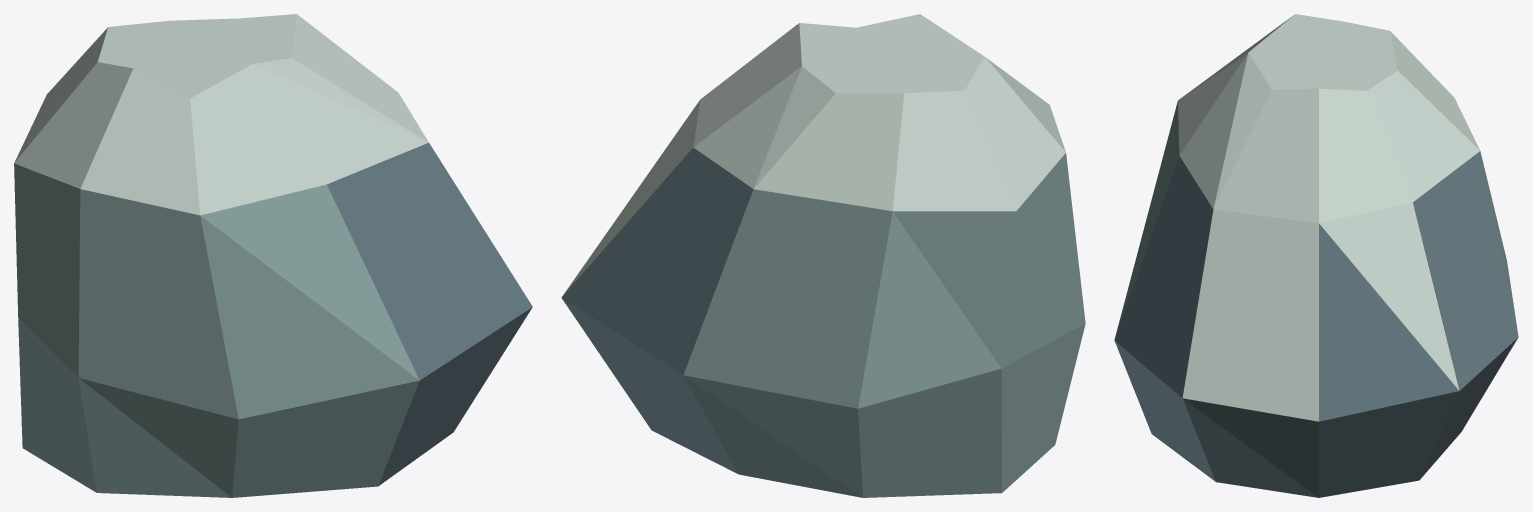
File: rock.glb
3 views of the same model, side by side, from view 1: azimuth 30°, elevation 25°; view 2: azimuth 150°, elevation 25°; view 3: azimuth 270°, elevation 25° (orthographic). The views are drawn at different scales.
Parts seen in each view (by area): view 1: rock__Rock_mid; view 2: rock__Rock_mid; view 3: rock__Rock_mid.
Part boxes in pixels (x1=…): rock__Rock_mid: x1=14, y1=14, x2=532, y2=497; rock__Rock_mid: x1=561, y1=14, x2=1085, y2=497; rock__Rock_mid: x1=1114, y1=14, x2=1518, y2=497.
Size of the model in its own units: 1.78 by 1.54 by 1.61.
